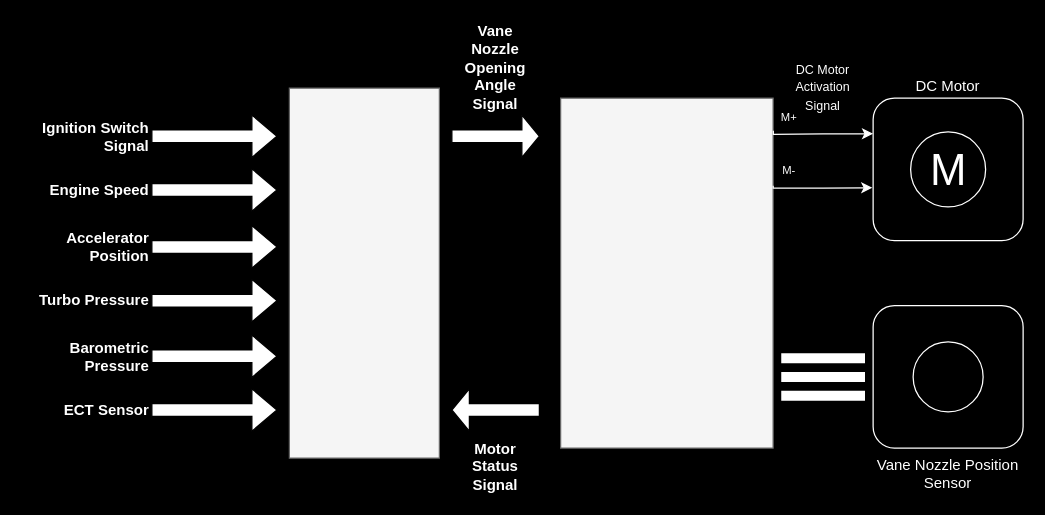
Some shapes in this 1045 by 515 pixel diagram are drawn without their labels. The centre of each missing label's shape, as x and y in pixels:
Engine Control Module: the point at 365,274
Turbocharger Boost Control Module: the point at 667,274
Vane Nozzle Position Signal: the point at 822,376
